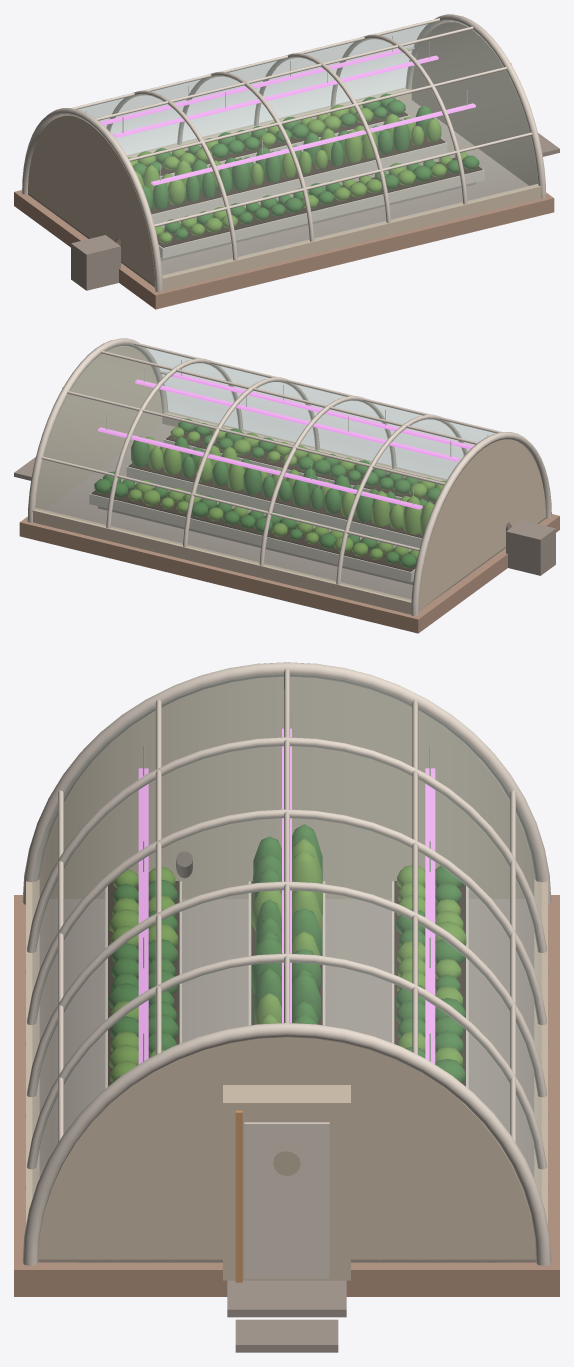
The model's file is A01_arched_greenhouse_10m.glb.
3 views of the same model, one above another, from view 1: azimuth 30°, elevation 25°; view 2: azimuth 150°, elevation 25°; view 3: azimuth 270°, elevation 25° (orthographic). The views are drawn at different scales.
Visible parts, largest first — view 1: glazing, end_wall (×2), rib (×6), foundation, base_wall (×2), bed_trough (×3), floor, purlin (×4), grow_light (×3), substrate (×3), plant (×6), climate_unit (+2 smaller); view 2: glazing, end_wall (×2), rib (×6), foundation, base_wall (×2), bed_trough (×3), floor, purlin (×4), grow_light (×3), substrate (×3), plant (×9), airlock_porch (+2 smaller); view 3: glazing, end_wall (×2), rib (×6), floor, foundation, airlock_door, airlock_porch, purlin (×5), step (×2), grow_light (×3), base_wall (×2), bed_trough (×3) (+3 smaller).
Part boxes in pixels (x1,y1,x2,y2): glazing: (77, 20, 538, 276); end_wall (×2): (28, 22, 537, 286); rib (×6): (22, 14, 546, 292); foundation: (14, 190, 554, 309); base_wall (×2): (28, 87, 541, 290); bed_trough (×3): (151, 111, 484, 258); floor: (28, 100, 528, 287); purlin (×4): (71, 18, 532, 227); grow_light (×3): (100, 49, 475, 185); substrate (×3): (142, 109, 482, 247); plant (×6): (152, 119, 409, 209); climate_unit: (71, 235, 120, 290); glazing: (35, 344, 496, 600); end_wall (×2): (36, 346, 545, 611); rib (×6): (27, 338, 551, 616); foundation: (19, 514, 559, 633); base_wall (×2): (32, 411, 545, 614); bed_trough (×3): (89, 435, 422, 582); floor: (45, 424, 545, 609); purlin (×4): (41, 342, 502, 551); grow_light (×3): (98, 373, 473, 509); substrate (×3): (91, 428, 435, 571); plant (×9): (131, 436, 422, 534); airlock_porch: (62, 368, 114, 481); glazing: (32, 674, 541, 1197); end_wall (×2): (38, 677, 535, 1262); rib (×6): (22, 662, 551, 1265); floor: (38, 899, 535, 1262); foundation: (14, 895, 559, 1296); airlock_door: (244, 1122, 329, 1278); airlock_porch: (223, 1085, 350, 1280); purlin (×5): (58, 668, 515, 1142); step (×2): (227, 1280, 346, 1352); grow_light (×3): (138, 728, 435, 1064); base_wall (×2): (26, 879, 547, 1262); bed_trough (×3): (105, 881, 468, 1088).
Size of the model in its own units: 12.9 by 3.45 by 6.4.
